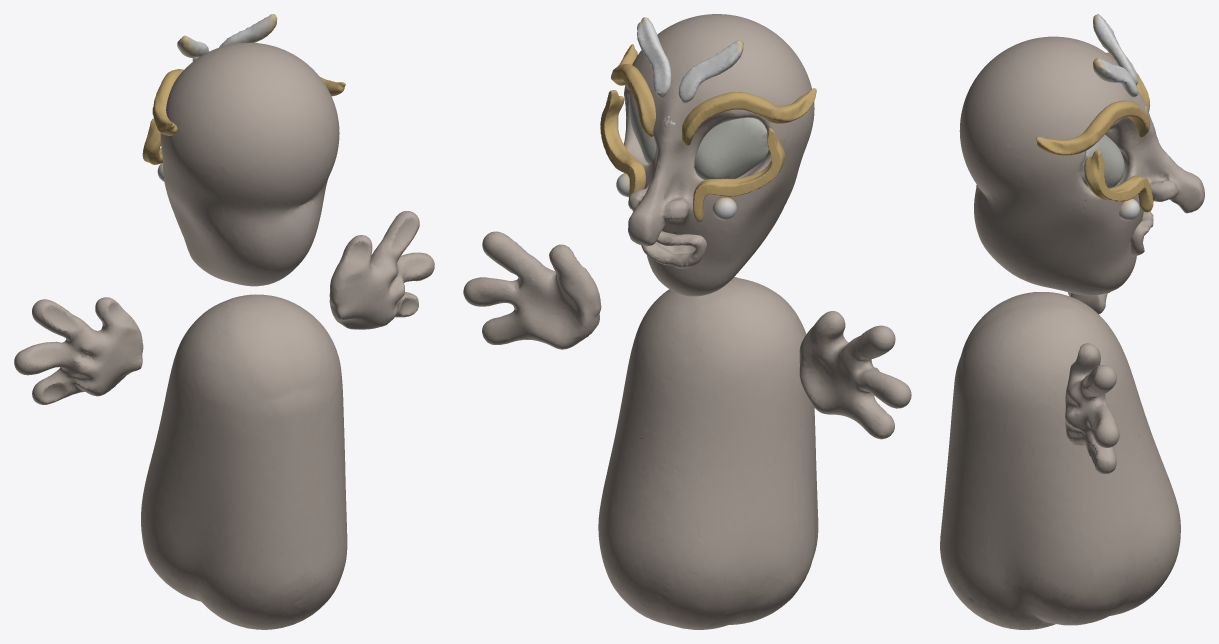
The model's file is acolyte.gltf.
3 renders of one model, left to right at view 1: azimuth 30°, elevation 25°; view 2: azimuth 150°, elevation 25°; view 3: azimuth 270°, elevation 25°, orthographic. The views are drawn at different scales.
Visible parts, largest first — view 1: body, head, hands, makeup, crown; view 2: body, head, hands, makeup, eyes, crown, mouth; view 3: body, head, hands, makeup, crown, eyes, mouth.
Part boxes in pixels (<box>): body: <box>141,294,347,629</box>; head: <box>160,42,339,286</box>; hands: <box>14,211,434,404</box>; makeup: <box>142,69,345,181</box>; crown: <box>177,14,277,61</box>; body: <box>598,277,818,629</box>; head: <box>624,14,814,296</box>; hands: <box>463,116,911,439</box>; makeup: <box>600,44,816,222</box>; eyes: <box>629,93,768,179</box>; crown: <box>637,17,743,103</box>; mouth: <box>641,231,706,268</box>; body: <box>940,292,1180,629</box>; head: <box>959,36,1204,295</box>; hands: <box>1065,103,1148,474</box>; makeup: <box>1036,52,1153,220</box>; crown: <box>1093,14,1138,97</box>; eyes: <box>1080,134,1124,188</box>; mouth: <box>1130,211,1153,256</box>.
Size of the model in its own units: 154 by 202 by 82.67.
7 materials, 7 textured.
